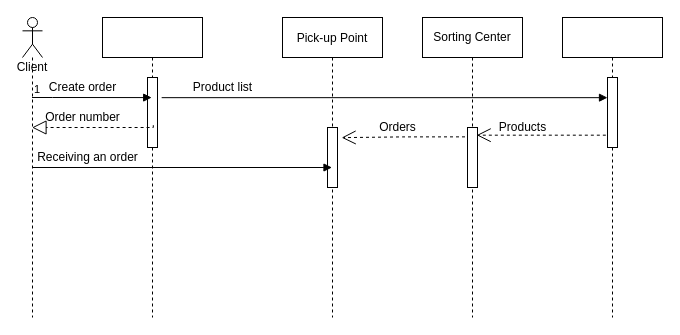
Image size: 680x335. Some labels were removed from this diagram. The shapes that lost their labels are listed below. From the top down, each one's box as (x1, y1, x2, y2) in pixels, then its label:
(102, 16, 202, 318): Site
(562, 16, 662, 318): Storage
